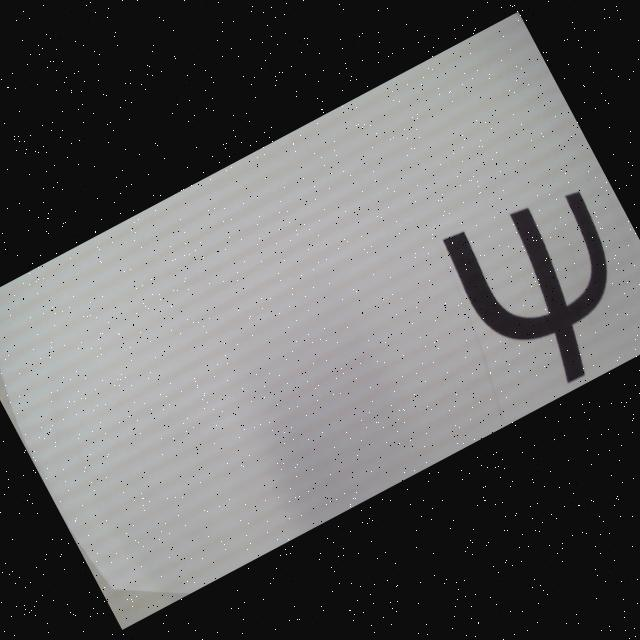PSI: (436, 171, 640, 408)
